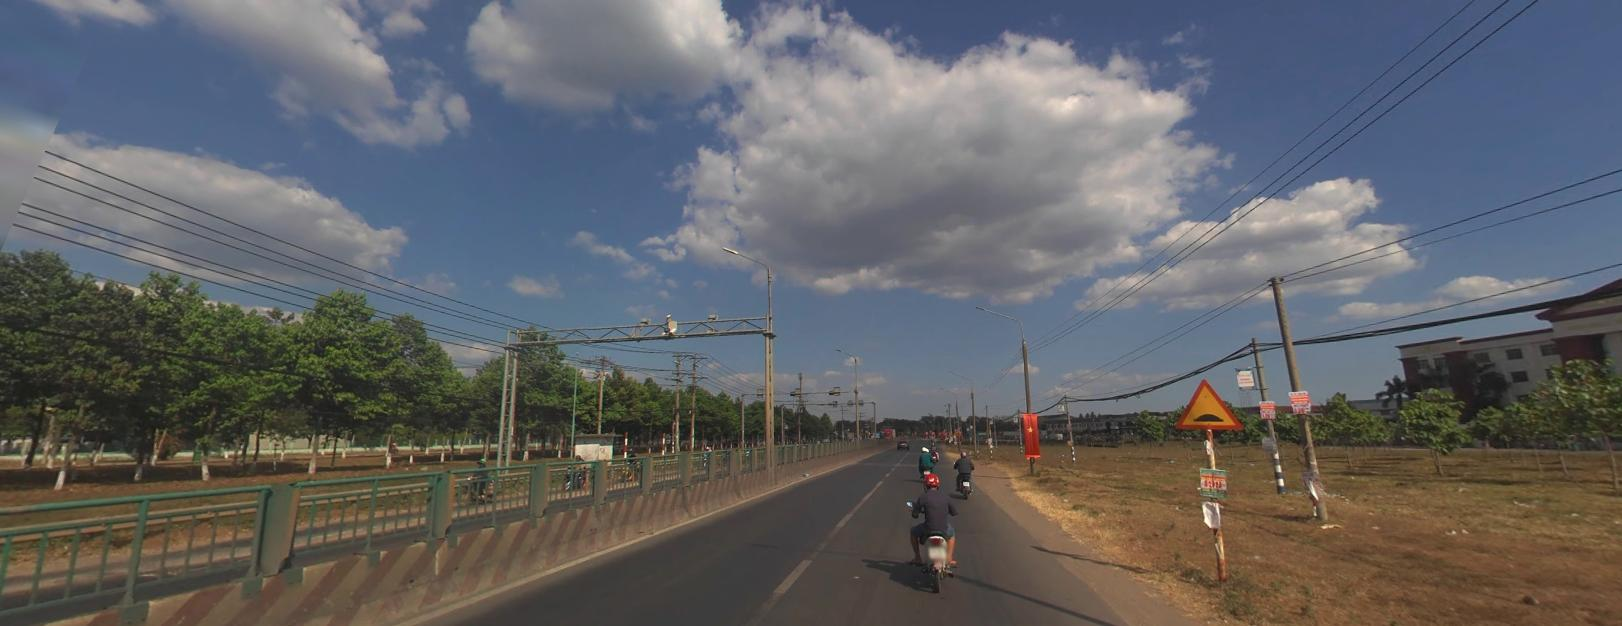Nguy hiem: (1175, 379, 1243, 431)
